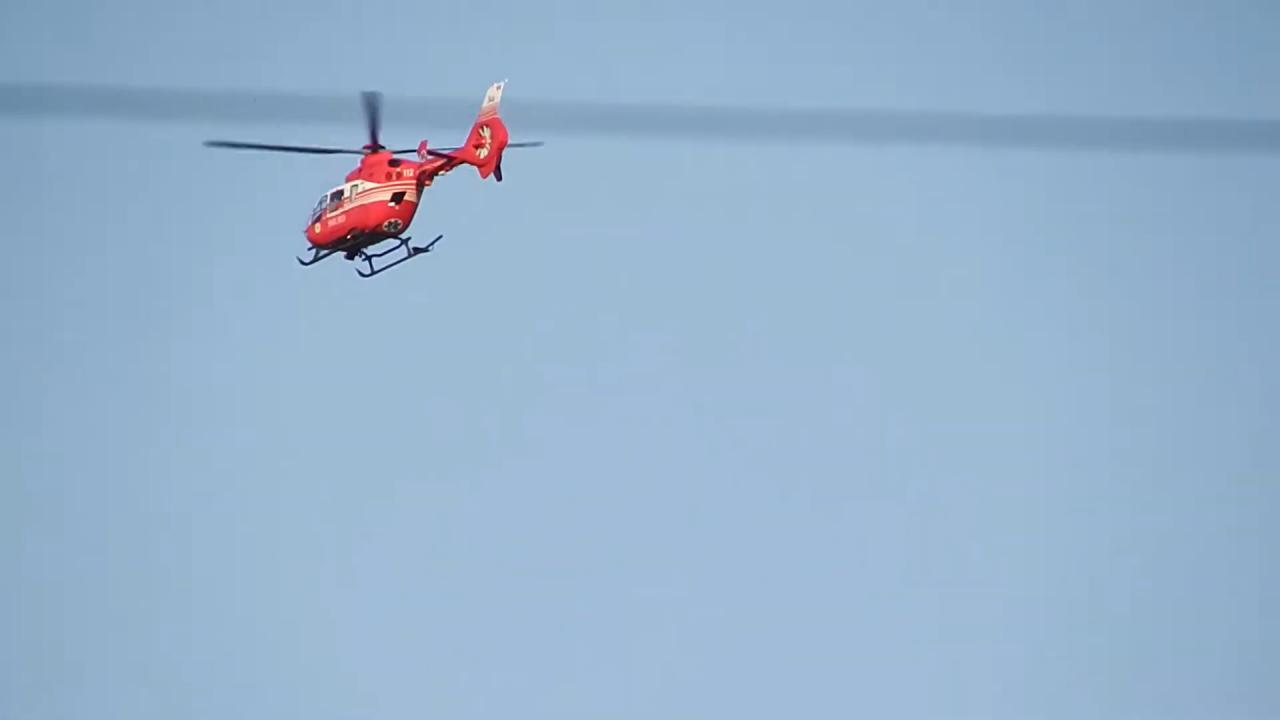Helicopter: (196, 67, 553, 285)
